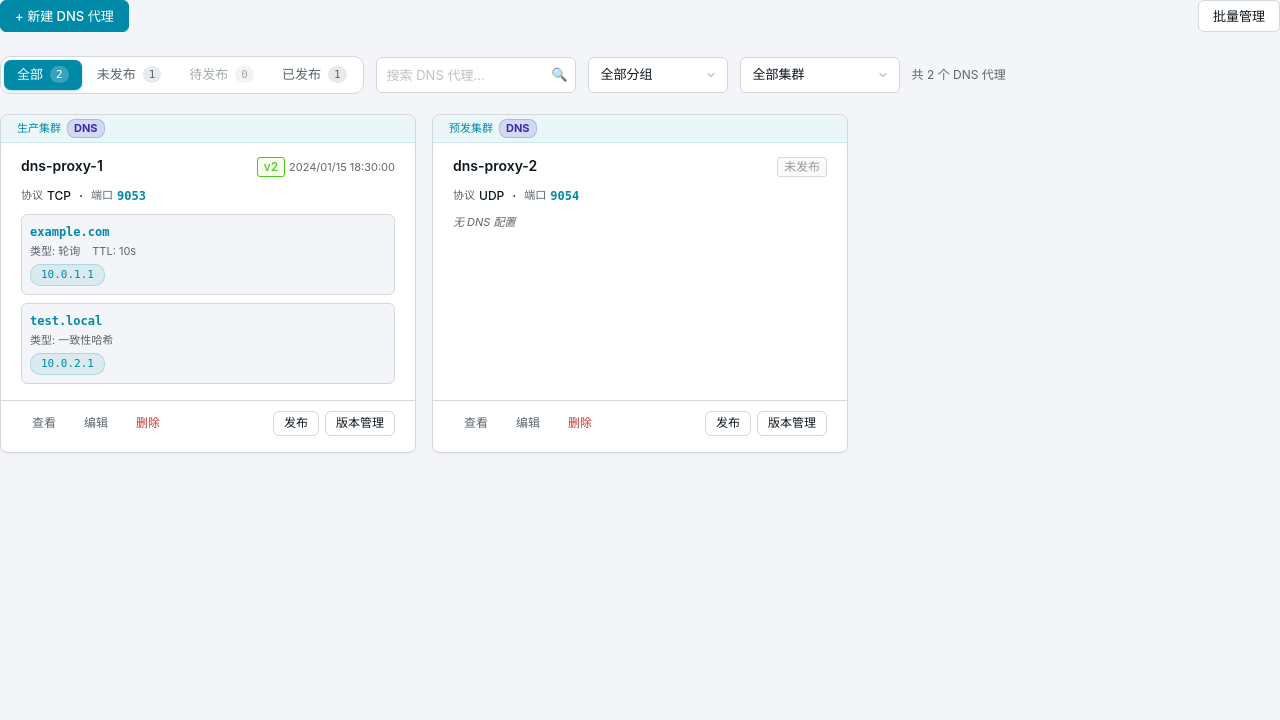
DnsUdpProxyList.vue 批量管理 › 页头有「批量管理」按钮（右侧），点击进入批量模式
This screenshot has width=1280, height=720.
Click the button "批量管理": coordinates (1239, 16) [1198, 0, 1279, 32]
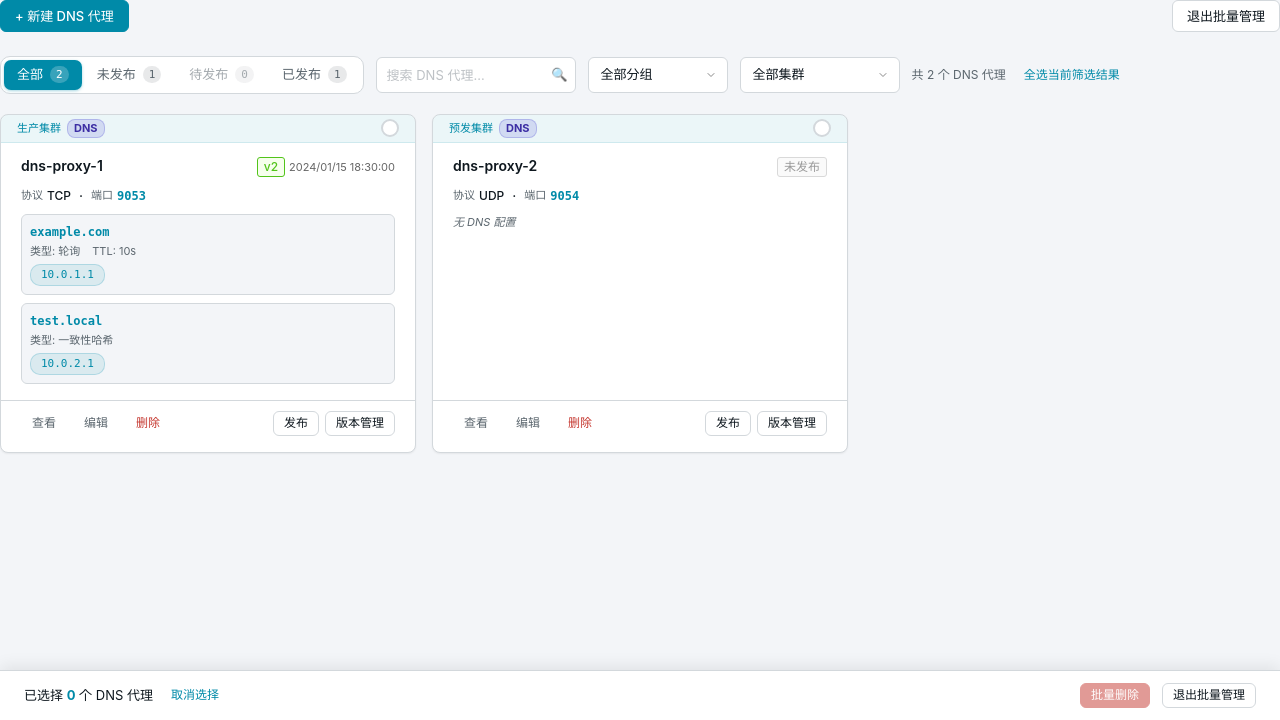
Expected: the number of elements with class "sp-checkbox" is 2, [381, 119, 399, 137]; [813, 119, 831, 137]
Expected: the element with class "sp-batch-bar" is shown, [0, 670, 1279, 719]
